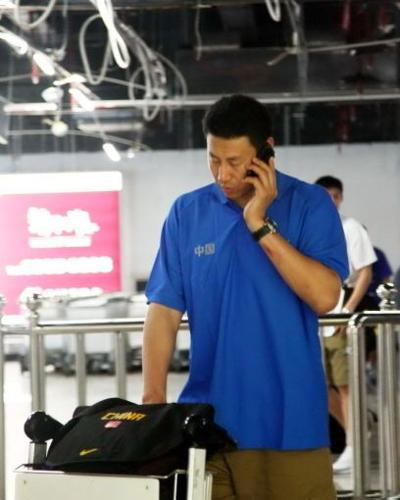person: (141, 94, 348, 499)
